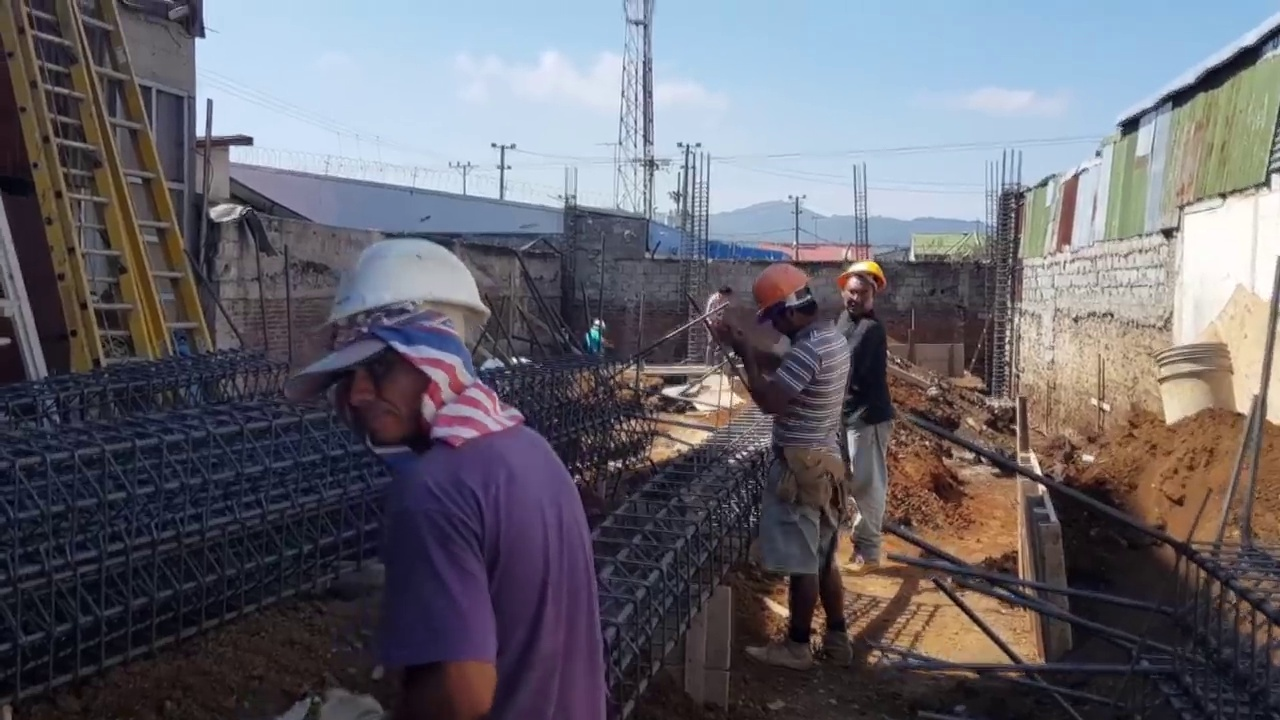helmet: (321, 241, 490, 330), (754, 262, 808, 321), (842, 259, 887, 298), (593, 319, 605, 330)
helmet-off: (719, 283, 732, 300)
helmet-on: (314, 232, 497, 462), (752, 263, 829, 342), (835, 258, 889, 319), (590, 318, 605, 333)
person: (283, 244, 600, 709), (707, 254, 852, 653), (831, 258, 898, 574), (704, 282, 732, 369), (578, 317, 606, 362)
